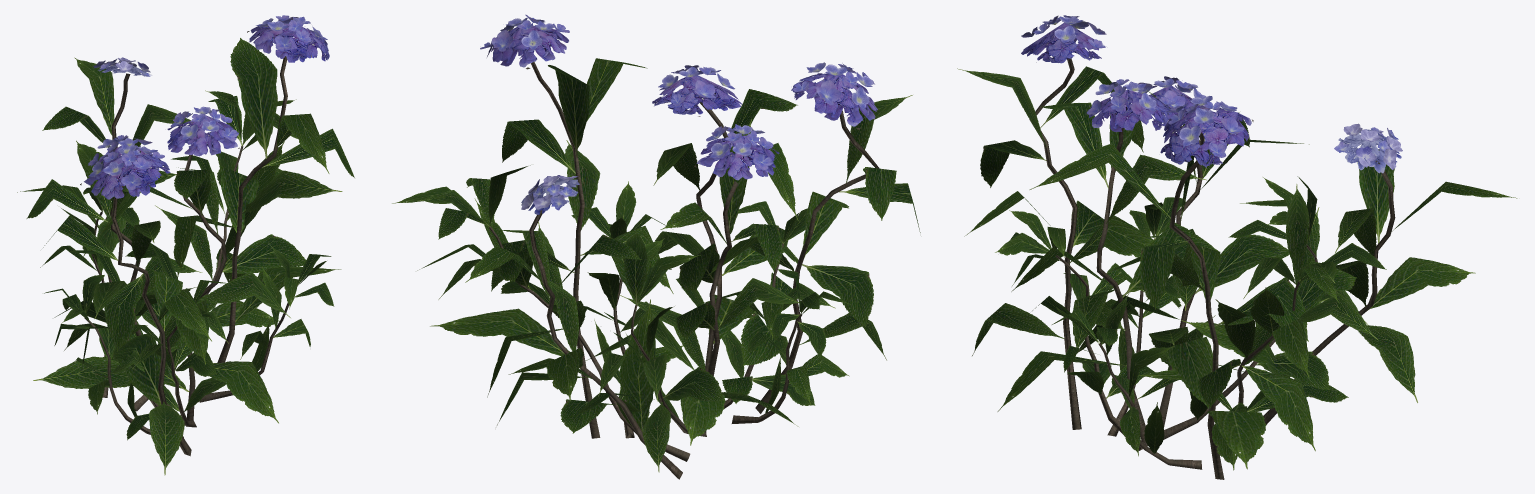
The model's file is arden_forest_hydrangea_02.fbx.
3 views of the same model, side by side, from view 1: azimuth 30°, elevation 25°; view 2: azimuth 150°, elevation 25°; view 3: azimuth 270°, elevation 25° (orthographic). The views are drawn at different scales.
Visible parts, largest first — view 1: arden_forest_hydrangea_02; view 2: arden_forest_hydrangea_02; view 3: arden_forest_hydrangea_02.
Part boxes in pixels (<box>): arden_forest_hydrangea_02: <box>17,15,354,475</box>; arden_forest_hydrangea_02: <box>392,14,920,479</box>; arden_forest_hydrangea_02: <box>957,15,1517,479</box>.
Size of the model in its own units: 1.26 by 1.5 by 1.21.
